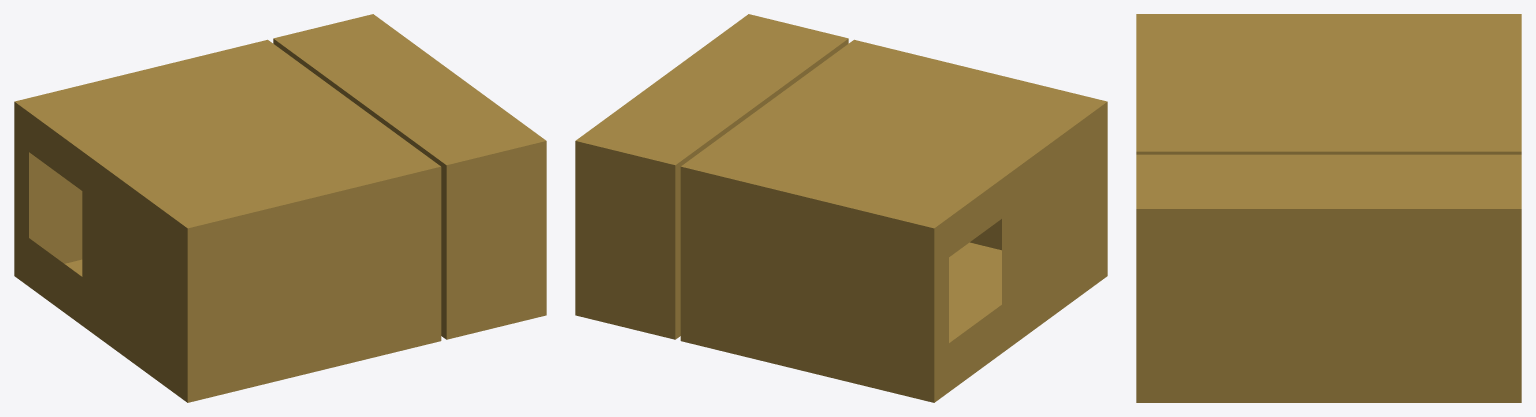
The model's file is Ruang.fbx.
3 renders of one model, left to right at view 1: azimuth 30°, elevation 25°; view 2: azimuth 150°, elevation 25°; view 3: azimuth 270°, elevation 25°, orthographic. The views are drawn at different scales.
Visible parts, largest first — view 1: Cube.012, Cube.016; view 2: Cube.012, Cube.016; view 3: Cube.016, Cube.012.
Boxes of the visible parts, x1,y1,x2,y2 form: Cube.012: (14,39,441,402); Cube.016: (273,14,546,339); Cube.012: (680,39,1107,402); Cube.016: (575,14,848,339); Cube.016: (1136,154,1521,402); Cube.012: (1136,14,1521,154).
Bounding box in the file's own units: 538 × 250 × 450.
